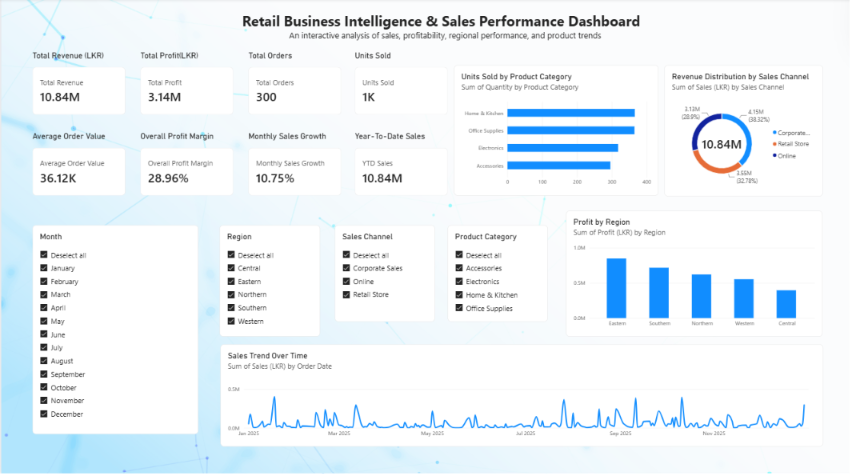

Layout of this report page (visuals, bound fields, positions):
{"tool":"powerbi","page":{"name":"Page 1","canvas":[1920,1080],"ordinal":0},"visuals":[{"type":"cardVisual","title":"Total Orders","fields":{"Data":["SalesData.Total Orders"]},"box":[558.8,117.5,210,145],"z":0},{"type":"lineChart","title":"Sales Trend Over Time","fields":{"Category":["SalesData.Order Date.Variation.Date Hierarchy.Year"],"Y":["Sum(SalesData.Sales (LKR))"]},"box":[495.5,782.1,1363.5,231.4],"z":1000},{"type":"clusteredColumnChart","title":"Profit by Region","fields":{"Category":["SalesData.Region"],"Y":["Sum(SalesData.Profit (LKR))"]},"box":[1277.5,480,580,285],"z":2000},{"type":"clusteredBarChart","title":"Units Sold by Product Category","fields":{"Category":["SalesData.Product Category"],"Y":["Sum(SalesData.Quantity)"]},"box":[1024.7,149.3,462.7,294.8],"z":3000},{"type":"listSlicer","fields":{"Values":["DateTable.Month"]},"box":[70.8,512.5,375,472.9],"z":5000},{"type":"cardVisual","title":"Total Revenue (LKR)","fields":{"Data":["SalesData.Total Revenue"]},"box":[70,117.5,210,145],"z":6000},{"type":"cardVisual","title":"Total Profit(LKR)","fields":{"Data":["SalesData.Total Profit"]},"box":[315,117.5,210,145],"z":7000},{"type":"cardVisual","title":"Overall Profit Margin","fields":{"Data":["SalesData.Overall Profit Margin"]},"box":[315,301.2,210,145],"z":8000},{"type":"cardVisual","title":"Year-To-Date Sales","fields":{"Data":["SalesData.YTD Sales"]},"box":[800,301.2,210,145],"z":9000},{"type":"cardVisual","title":"Units Sold","fields":{"Data":["SalesData.Units Sold"]},"box":[800,117.5,210,145],"z":10000},{"type":"cardVisual","title":"Average Order Value","fields":{"Data":["SalesData.Average Order Value"]},"box":[70,301.2,210,145],"z":11000},{"type":"cardVisual","title":"Monthly Sales Growth","fields":{"Data":["SalesData.Monthly Sales Growth"]},"box":[558.8,301.2,210,145],"z":12000},{"type":"listSlicer","fields":{"Values":["SalesData.Region"]},"box":[493.4,511.8,227.3,251.8],"z":12001},{"type":"listSlicer","fields":{"Values":["SalesData.Sales Channel"]},"box":[754.2,512.5,226.2,218.8],"z":12002},{"type":"listSlicer","fields":{"Values":["SalesData.Product Category"]},"box":[1010.4,512.5,226.2,218.8],"z":12003},{"type":"textbox","box":[70,27.5,1770,122.5],"z":12004},{"type":"donutChart","title":"Revenue Distribution by Sales Channel","fields":{"Category":["SalesData.Sales Channel"],"Y":["Sum(SalesData.Sales (LKR))"]},"box":[1500.7,149.5,358.3,296.9],"z":12005}]}

Visuals, with their boxes in screenshot pixels (x1, y1, x2, y2), scaled from the page's 1920x1080 canvas onto the 850x474 screenshot:
"Total Orders" cardVisual: {"x1": 247, "y1": 52, "x2": 340, "y2": 115}
"Sales Trend Over Time" lineChart: {"x1": 219, "y1": 343, "x2": 823, "y2": 445}
"Profit by Region" clusteredColumnChart: {"x1": 566, "y1": 211, "x2": 822, "y2": 336}
"Units Sold by Product Category" clusteredBarChart: {"x1": 454, "y1": 66, "x2": 658, "y2": 195}
listSlicer - DateTable.Month: {"x1": 31, "y1": 225, "x2": 197, "y2": 432}
"Total Revenue (LKR)" cardVisual: {"x1": 31, "y1": 52, "x2": 124, "y2": 115}
"Total Profit(LKR)" cardVisual: {"x1": 139, "y1": 52, "x2": 232, "y2": 115}
"Overall Profit Margin" cardVisual: {"x1": 139, "y1": 132, "x2": 232, "y2": 196}
"Year-To-Date Sales" cardVisual: {"x1": 354, "y1": 132, "x2": 447, "y2": 196}
"Units Sold" cardVisual: {"x1": 354, "y1": 52, "x2": 447, "y2": 115}
"Average Order Value" cardVisual: {"x1": 31, "y1": 132, "x2": 124, "y2": 196}
"Monthly Sales Growth" cardVisual: {"x1": 247, "y1": 132, "x2": 340, "y2": 196}
listSlicer - SalesData.Region: {"x1": 218, "y1": 225, "x2": 319, "y2": 335}
listSlicer - SalesData.Sales Channel: {"x1": 334, "y1": 225, "x2": 434, "y2": 321}
listSlicer - SalesData.Product Category: {"x1": 447, "y1": 225, "x2": 547, "y2": 321}
textbox: {"x1": 31, "y1": 12, "x2": 815, "y2": 66}
"Revenue Distribution by Sales Channel" donutChart: {"x1": 664, "y1": 66, "x2": 823, "y2": 196}
